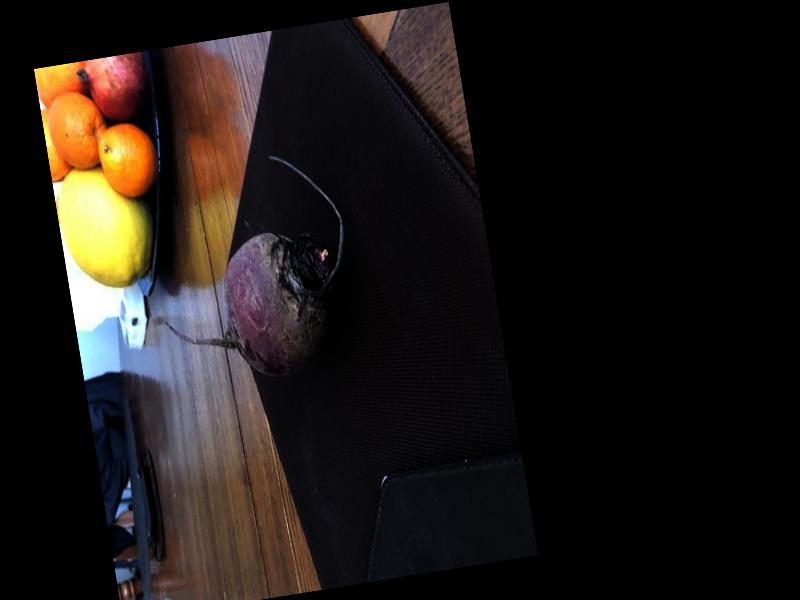Beet: (140, 145, 365, 393)
